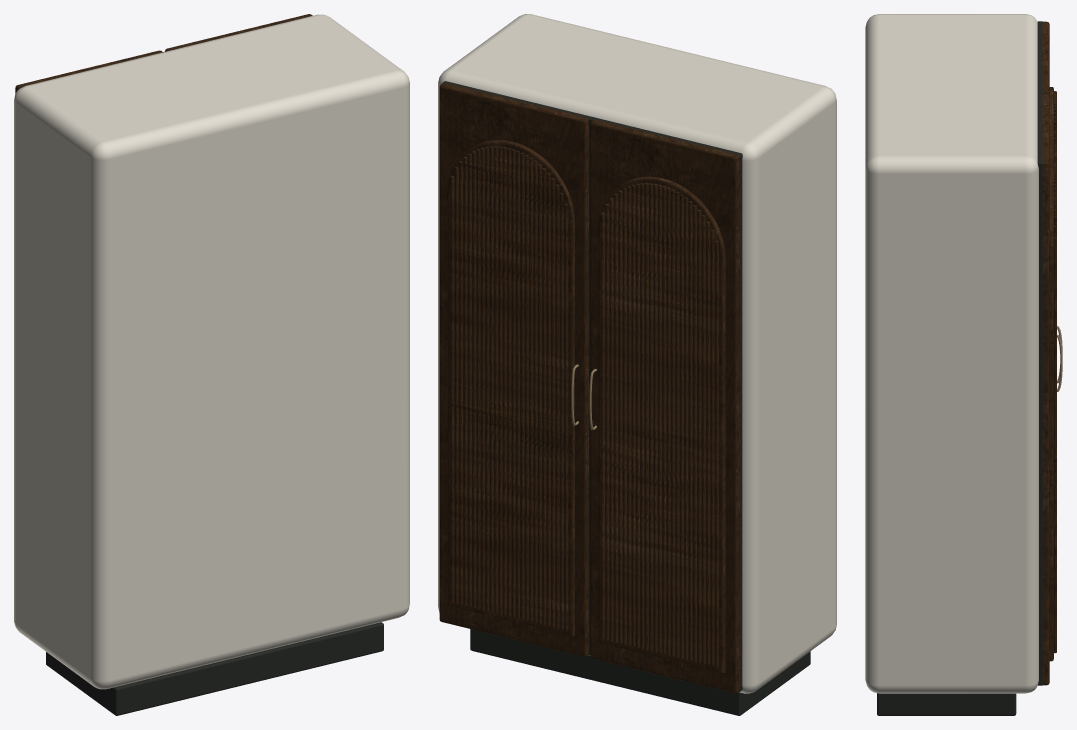
File: atelier-arch-wardrobe.glb
The picture shows the model from 3 angles, left to right: view 1: azimuth 30°, elevation 25°; view 2: azimuth 150°, elevation 25°; view 3: azimuth 270°, elevation 25°; orthographic projection. The views are drawn at different scales.
Visible parts, largest first — view 1: lacquer_surfaces, dark_surfaces, walnut_surfaces; view 2: walnut_surfaces, lacquer_surfaces, dark_surfaces; view 3: lacquer_surfaces, walnut_surfaces, dark_surfaces.
Part boxes in pixels (x1=…): lacquer_surfaces: x1=14, y1=14, x2=409, y2=689; dark_surfaces: x1=18, y1=15, x2=383, y2=715; walnut_surfaces: x1=15, y1=14, x2=312, y2=93; walnut_surfaces: x1=439, y1=83, x2=740, y2=693; lacquer_surfaces: x1=438, y1=14, x2=836, y2=693; dark_surfaces: x1=442, y1=81, x2=810, y2=715; lacquer_surfaces: x1=865, y1=14, x2=1038, y2=693; walnut_surfaces: x1=1042, y1=21, x2=1056, y2=685; dark_surfaces: x1=877, y1=21, x2=1043, y2=715.
Bounding box in the file's own units: 1.24 × 2.15 × 0.6801.
4 materials, 1 textured.
